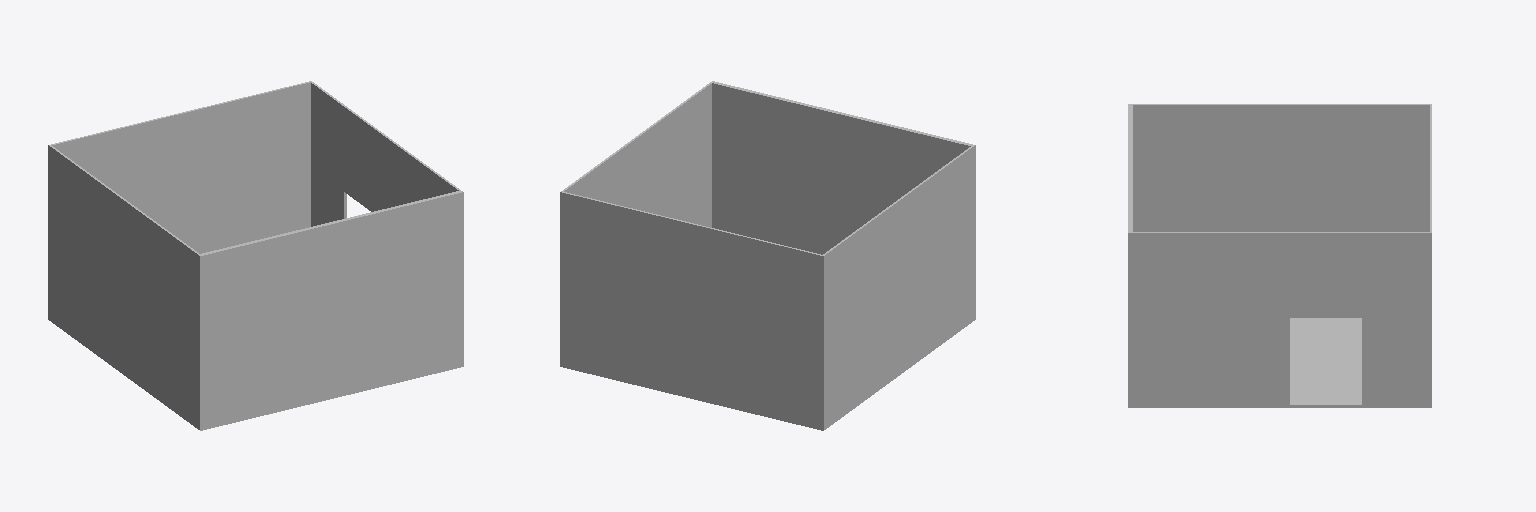
File: 4x2 second (1)-3.obj
3 renders of one model, left to right at view 1: azimuth 30°, elevation 25°; view 2: azimuth 150°, elevation 25°; view 3: azimuth 270°, elevation 25°, orthographic.
Visible parts, largest first — view 1: 4x2 second (1)-3; view 2: 4x2 second (1)-3; view 3: 4x2 second (1)-3.
Boxes of the visible parts, x1,y1,x2,y2 form: 4x2 second (1)-3: [48, 81, 463, 430]; 4x2 second (1)-3: [560, 81, 975, 430]; 4x2 second (1)-3: [1128, 104, 1431, 407].
Bounding box in the file's own units: 126 × 80 × 126.